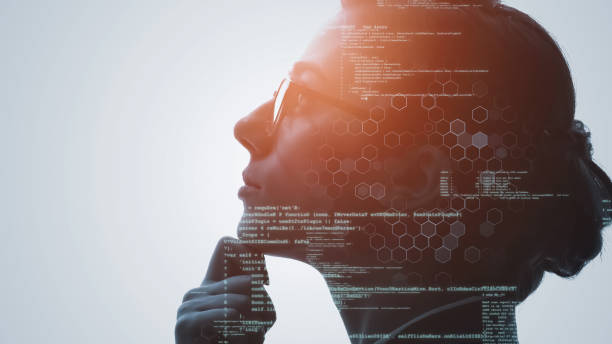without mask: (223, 1, 427, 259)
